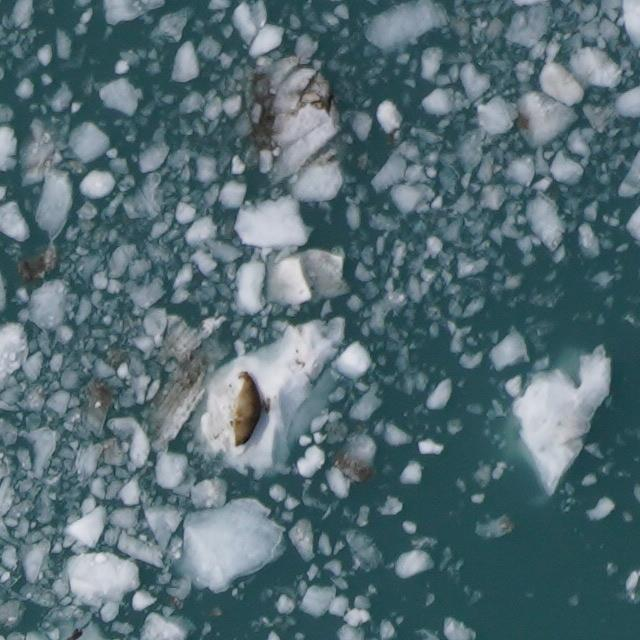seal: (228, 372, 261, 447)
